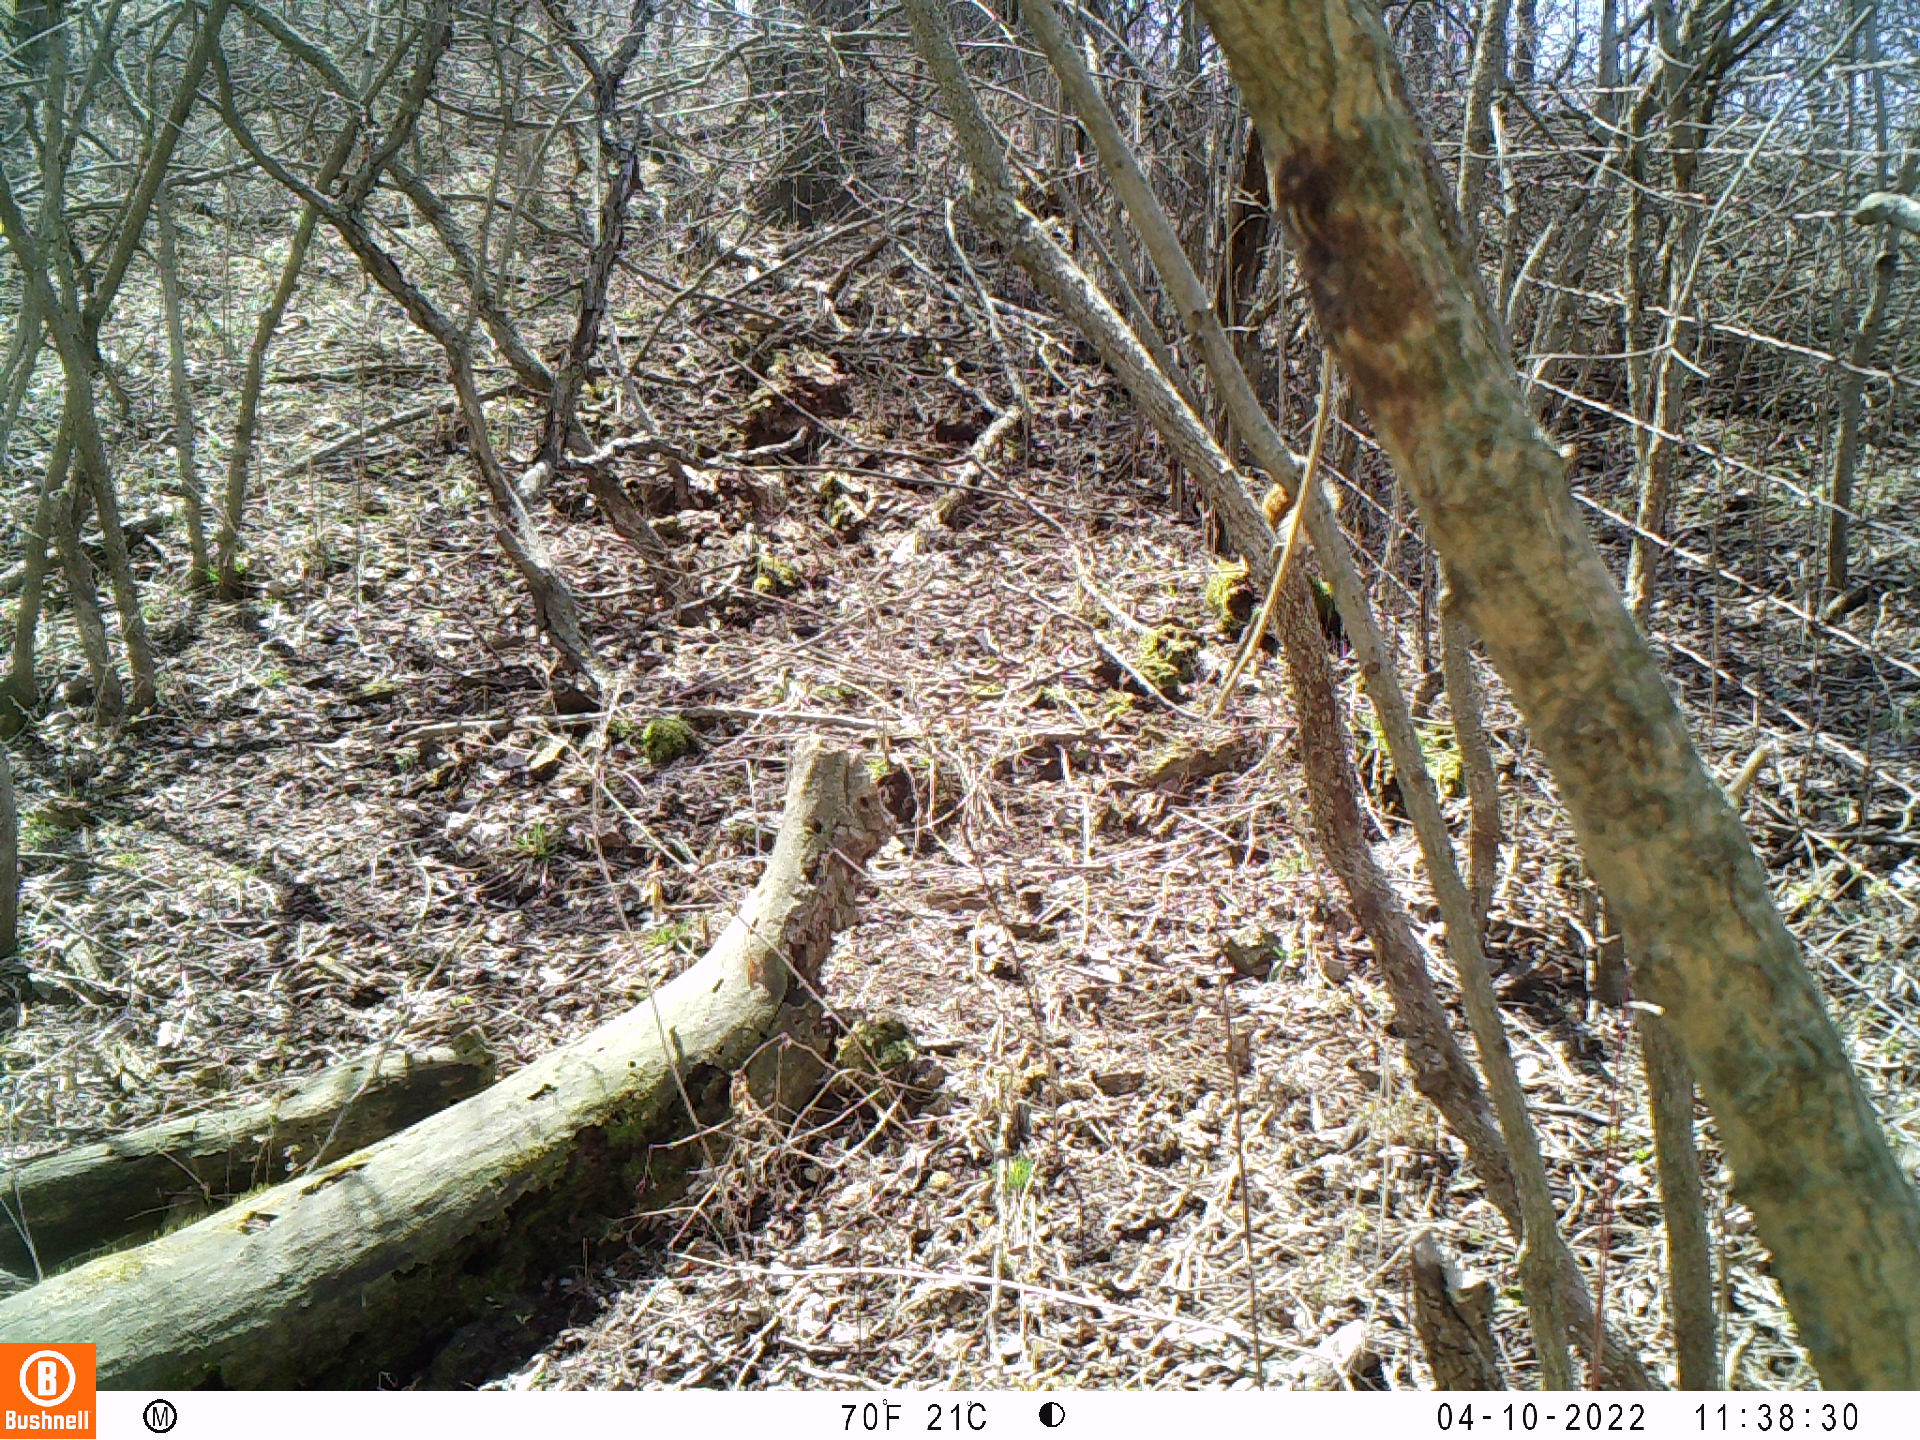Squirrel: (1261, 469, 1338, 552)
